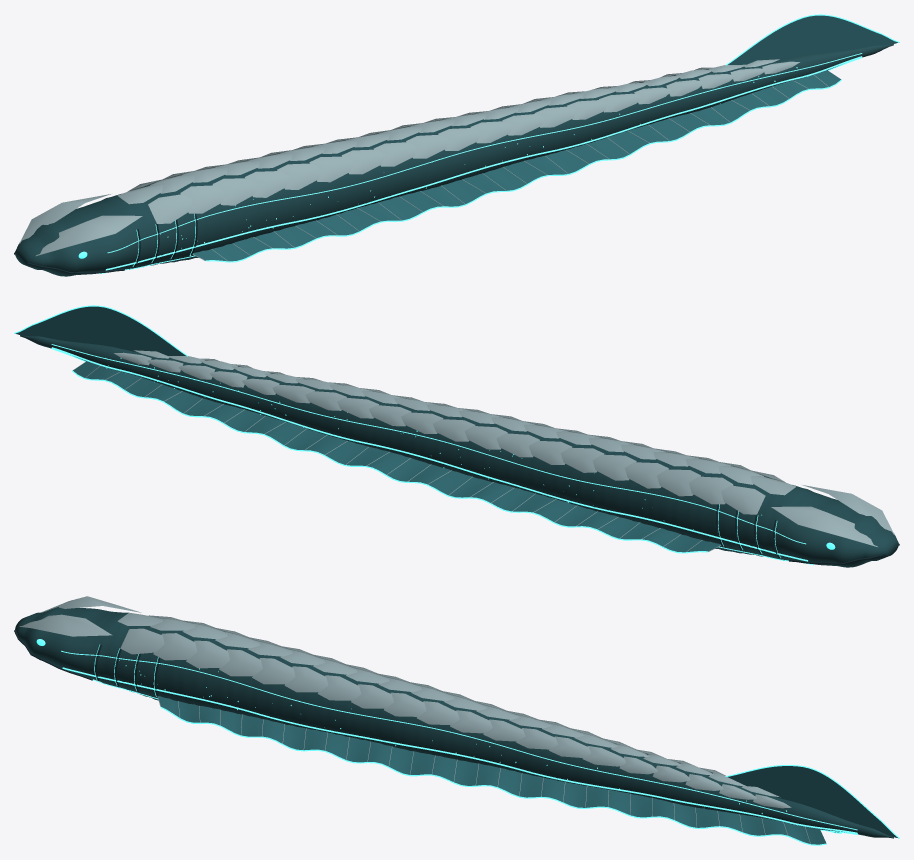
The model's file is nacre-leviathan-v1.glb.
The picture shows the model from 3 angles, top to bottom: view 1: azimuth 30°, elevation 25°; view 2: azimuth 150°, elevation 25°; view 3: azimuth 330°, elevation 25°; orthographic projection.
Visible parts, largest first — view 1: Living deep teal / wet hide, Nacre / overlapping dorsal shields, Translucent-looking teal / solid fin membranes, Cyan living photophores, Deep inset / mouth and gills; view 2: Living deep teal / wet hide, Nacre / overlapping dorsal shields, Translucent-looking teal / solid fin membranes, Cyan living photophores, Deep inset / mouth and gills; view 3: Living deep teal / wet hide, Nacre / overlapping dorsal shields, Translucent-looking teal / solid fin membranes, Cyan living photophores, Deep inset / mouth and gills.
Part boxes in pixels (x1,y1,x2,y2): Living deep teal / wet hide: [15, 44, 893, 276]; Nacre / overlapping dorsal shields: [19, 59, 828, 260]; Translucent-looking teal / solid fin membranes: [193, 15, 897, 261]; Cyan living photophores: [78, 14, 899, 273]; Deep inset / mouth and gills: [14, 213, 197, 273]; Living deep teal / wet hide: [20, 335, 898, 567]; Nacre / overlapping dorsal shields: [85, 350, 894, 551]; Translucent-looking teal / solid fin membranes: [15, 306, 720, 552]; Cyan living photophores: [14, 305, 835, 565]; Deep inset / mouth and gills: [716, 504, 899, 564]; Living deep teal / wet hide: [15, 607, 893, 838]; Nacre / overlapping dorsal shields: [19, 596, 810, 843]; Translucent-looking teal / solid fin membranes: [158, 696, 897, 844]; Cyan living photophores: [36, 639, 899, 845]; Deep inset / mouth and gills: [14, 630, 160, 697].
Size of the model in its own units: 181 by 17.49 by 20.35.
